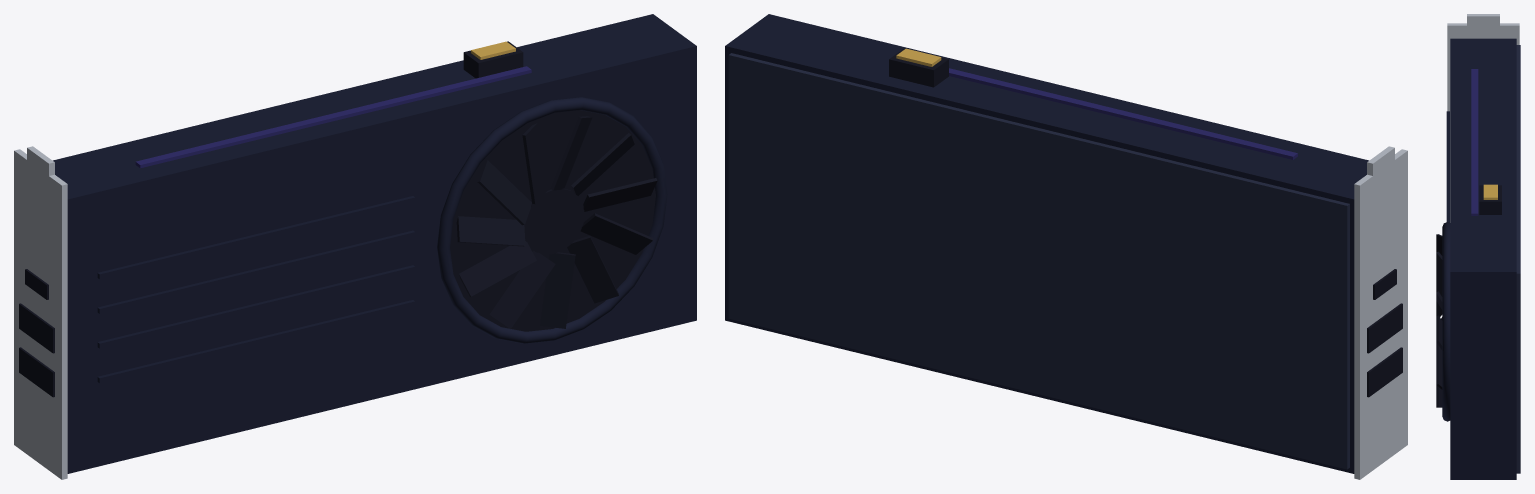
File: gpu-blower.glb
3 renders of one model, left to right at view 1: azimuth 30°, elevation 25°; view 2: azimuth 150°, elevation 25°; view 3: azimuth 270°, elevation 25°, orthographic. The views are drawn at different scales.
Parts seen in each view (by area): view 1: shroud, blades_1, intake_recess, pcie_bracket, shroud_ridges, intake_ring, side_rgb_strip, io_cutouts, power_connector; view 2: backplate, shroud, pcie_bracket, side_rgb_strip, io_cutouts, power_connector; view 3: shroud, backplate, intake_ring, pcie_bracket, blades_1, side_rgb_strip, bracket_tab, power_connector, shroud_ridges, power_pins.
Part boxes in pixels (box(x1,y1,x2,y2)): shroud: box(53, 14, 696, 473); blades_1: box(456, 116, 657, 328); intake_recess: box(450, 110, 655, 331); pcie_bracket: box(14, 149, 67, 479); shroud_ridges: box(97, 196, 415, 383); intake_ring: box(437, 97, 667, 343); side_rgb_strip: box(135, 66, 531, 168); io_cutouts: box(19, 269, 54, 397); power_connector: box(463, 41, 523, 78); backplate: box(728, 53, 1349, 469); shroud: box(725, 14, 1368, 473); pcie_bracket: box(1354, 149, 1407, 479); side_rgb_strip: box(949, 68, 1297, 159); io_cutouts: box(1367, 269, 1402, 397); power_connector: box(889, 48, 948, 87); shroud: box(1450, 38, 1516, 479); backplate: box(1516, 45, 1520, 473); intake_ring: box(1442, 222, 1450, 421); pcie_bracket: box(1447, 23, 1519, 222); blades_1: box(1436, 234, 1442, 407); side_rgb_strip: box(1471, 69, 1478, 215); bracket_tab: box(1467, 14, 1499, 31); power_connector: box(1479, 185, 1501, 214); shroud_ridges: box(1446, 111, 1449, 222); power_pins: box(1483, 184, 1497, 199).
Bounding box in the file's own units: 270 × 124 × 40.84.
